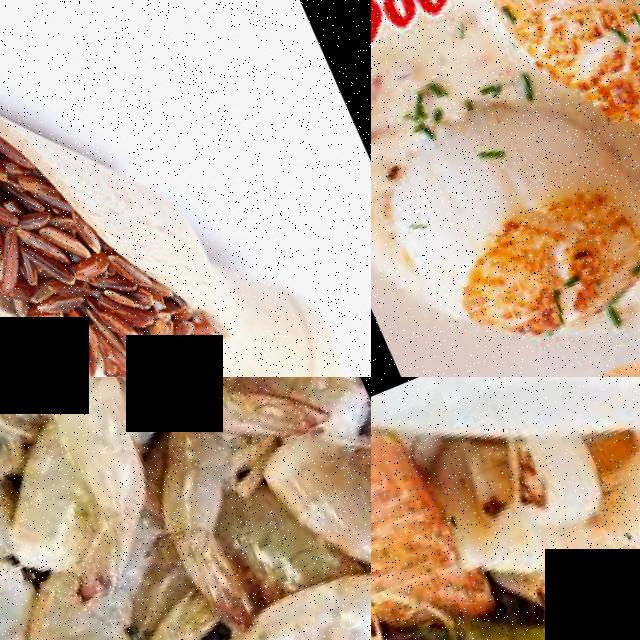red rice: (0, 105, 185, 377)
sea scallops: (371, 80, 640, 365), (445, 0, 640, 88)
shrimp: (259, 560, 371, 640)
